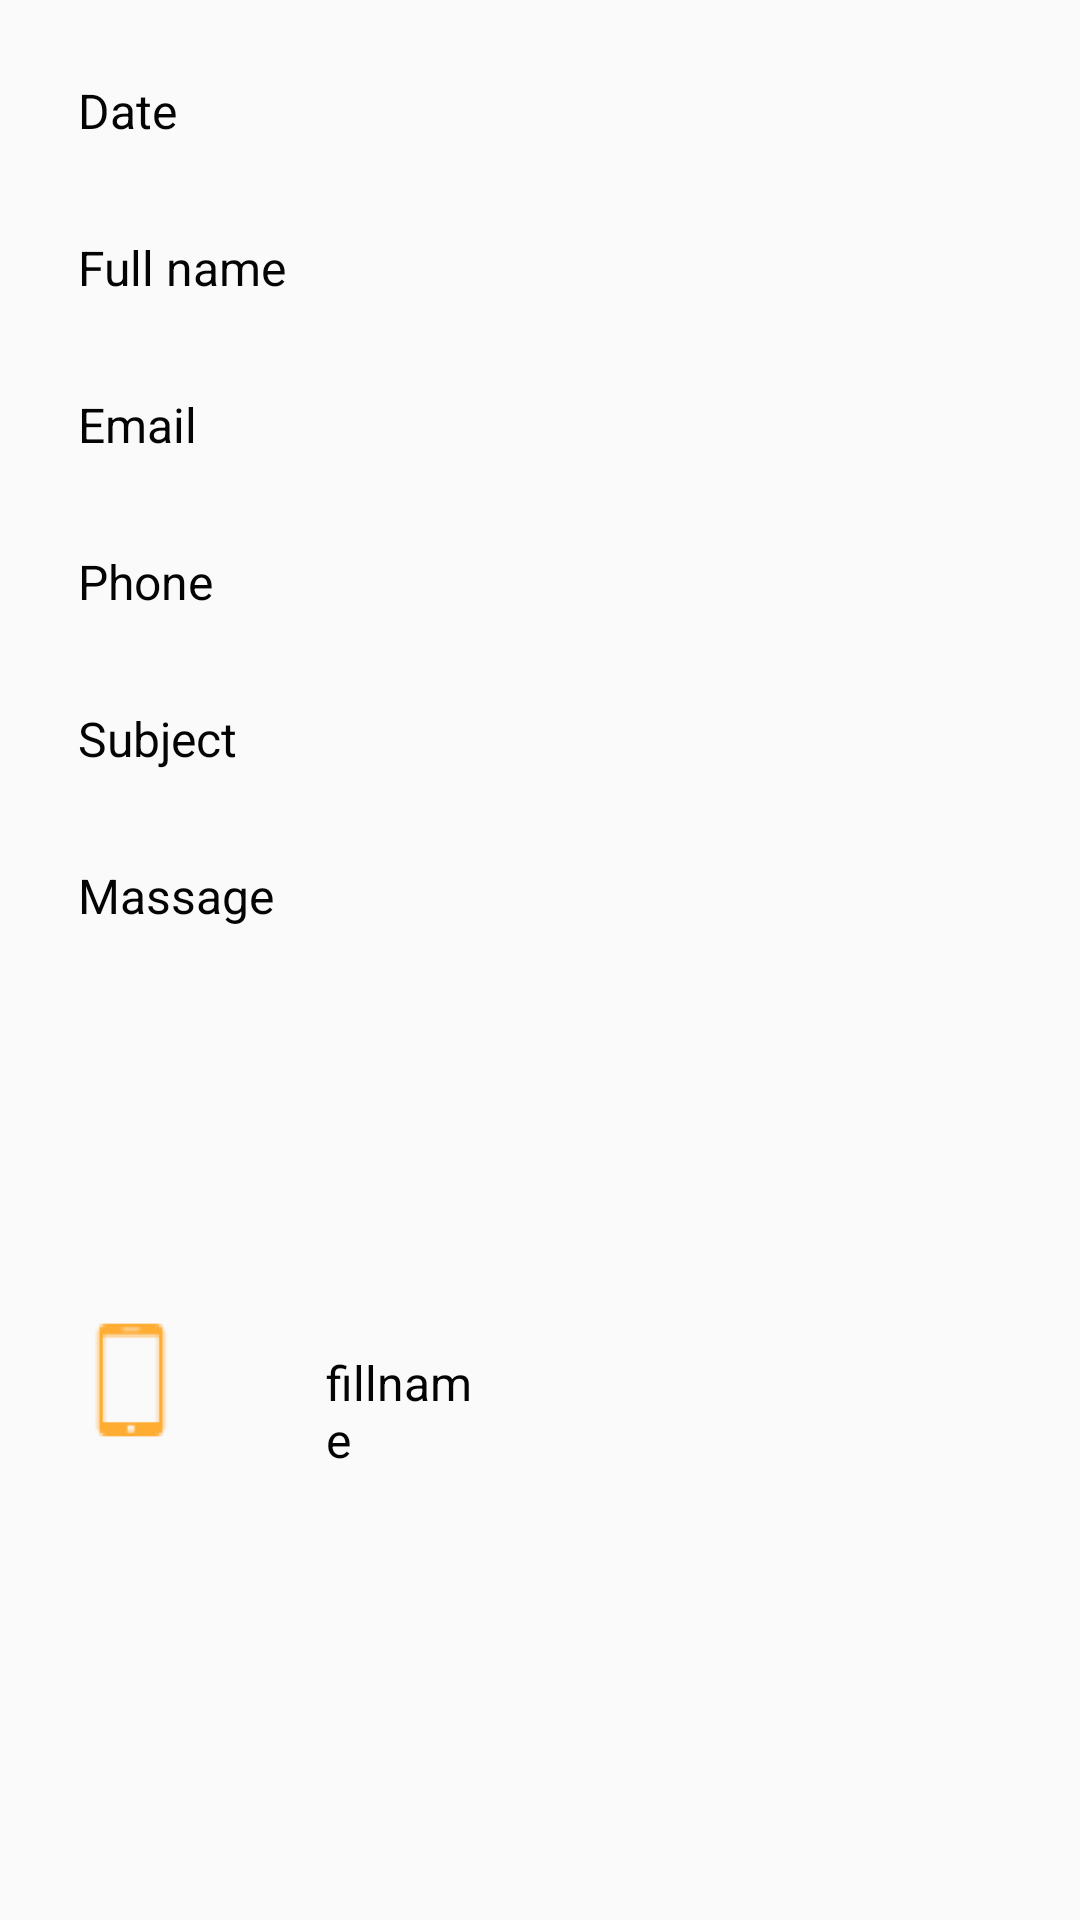

Icon click points for this 1080 x 1920 phone screenshot, format (x,y):
mobile: (131,1380)
